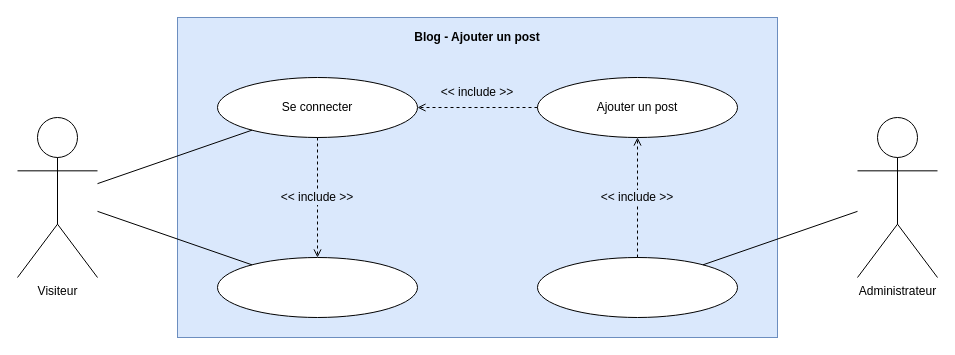
Image size: 955x355. Some labels were removed from this diagram. Here are the shapes that lost their labels. From the top down, the box of each, then its label:
(216, 256, 418, 318): Inscription
(536, 256, 738, 318): Validation du compte
